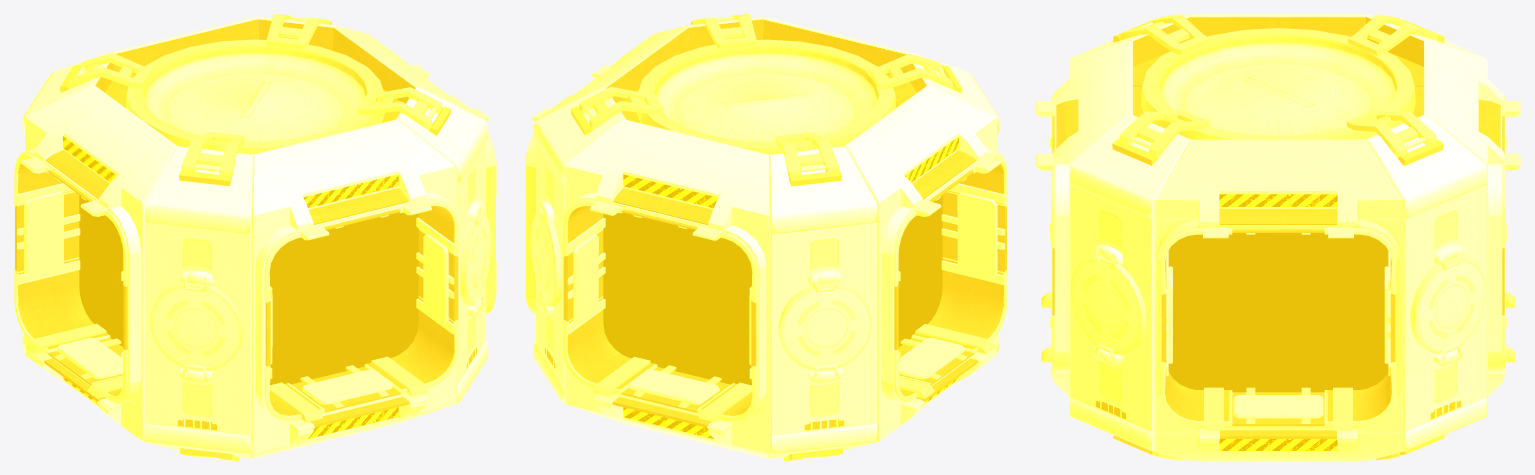
The model's file is merger-full.glb.
3 renders of one model, left to right at view 1: azimuth 30°, elevation 25°; view 2: azimuth 150°, elevation 25°; view 3: azimuth 270°, elevation 25°, orthographic. The views are drawn at different scales.
Visible parts, largest first — view 1: SM_Merger_01; view 2: SM_Merger_01; view 3: SM_Merger_01.
Boxes of the visible parts, left/top/right/bottom form: SM_Merger_01: left=14, top=14, right=496, bottom=460; SM_Merger_01: left=525, top=14, right=1007, bottom=460; SM_Merger_01: left=1036, top=14, right=1520, bottom=460.
Bounding box in the file's own units: 4.13 × 3.14 × 4.13.
Materials: 1 (1 with a texture image).
